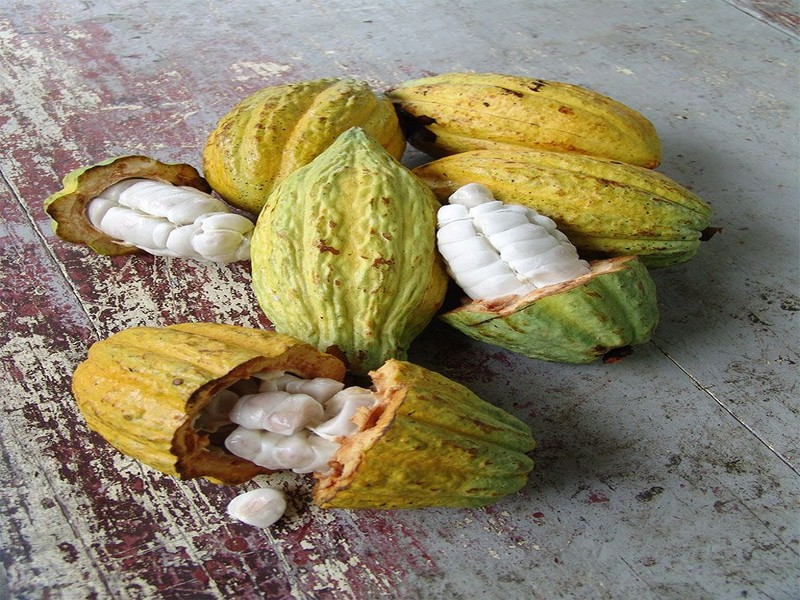Cacaopod: (249, 125, 456, 369)
